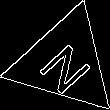N_NE: (32, 31, 97, 94)
